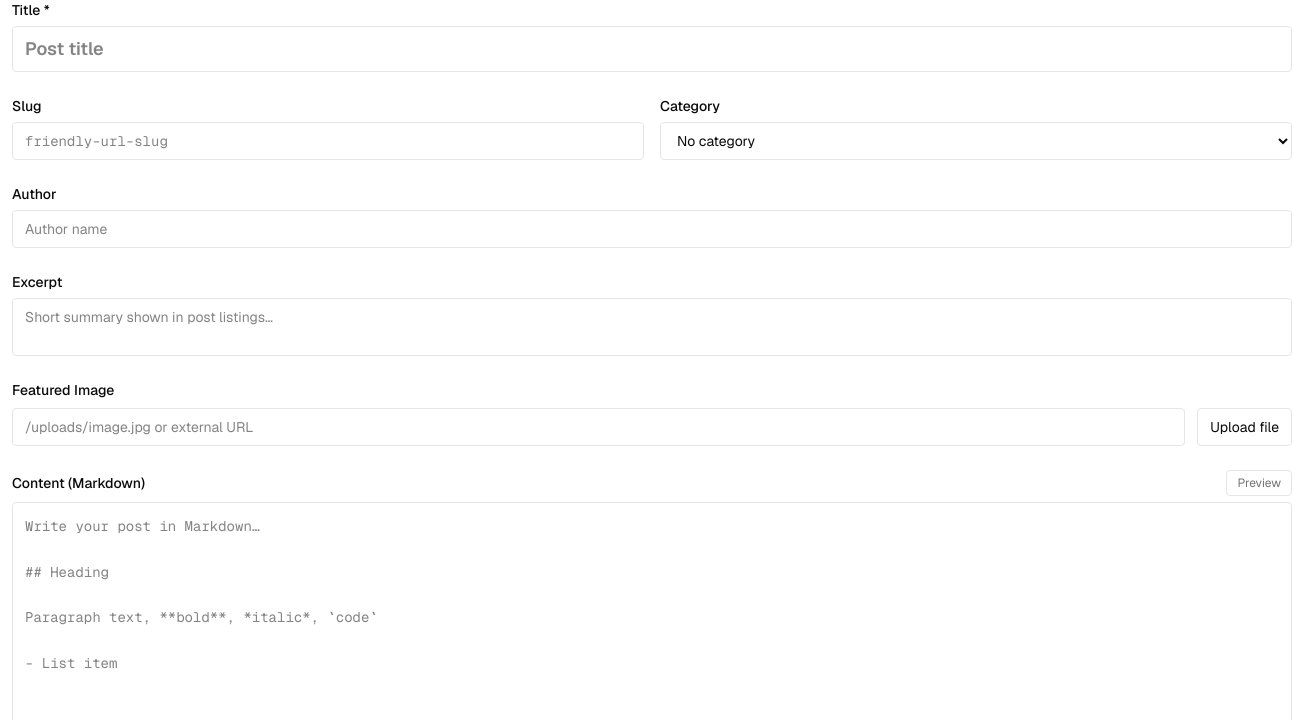
Test: PostForm › saving › shows error on API failure
Type "My Post" into the field with placeholder "Post title" at (652, 49), box x1=12 y1=26 x2=1292 y2=72
(page scrolled)
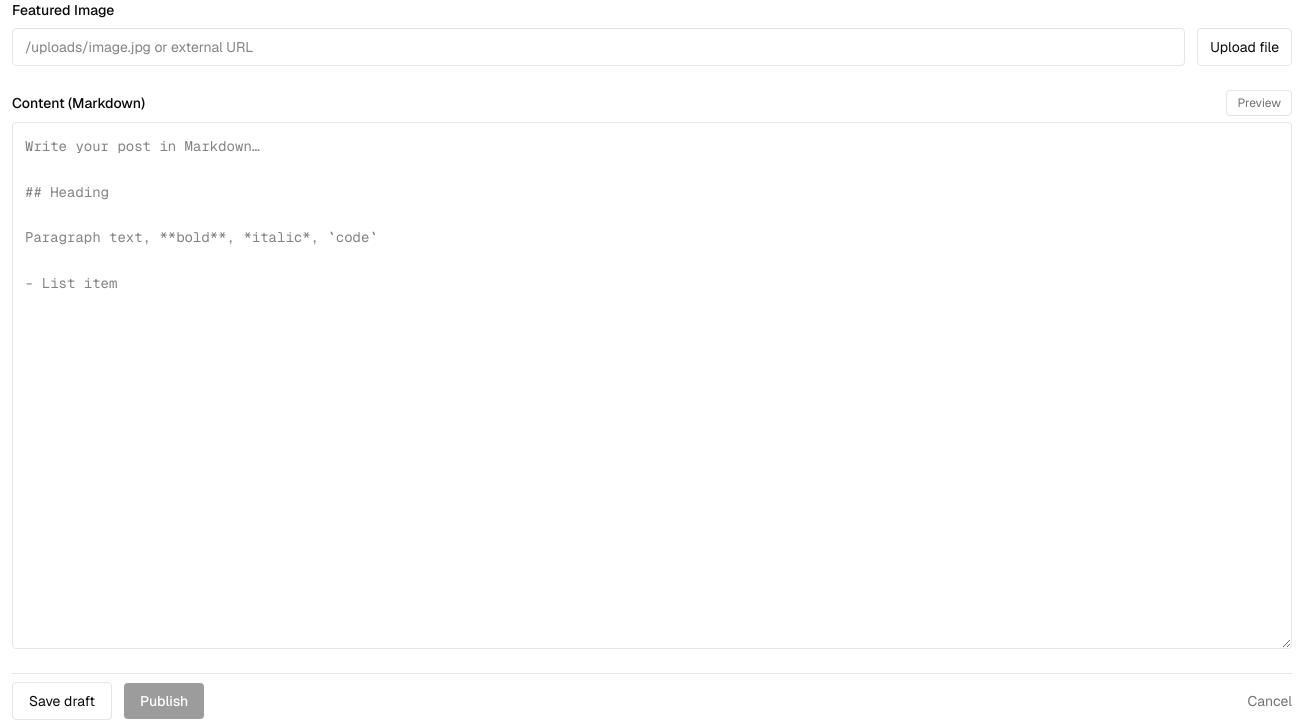
Click the button "Save draft" at (62, 700), box x1=12 y1=682 x2=112 y2=719
(page scrolled)
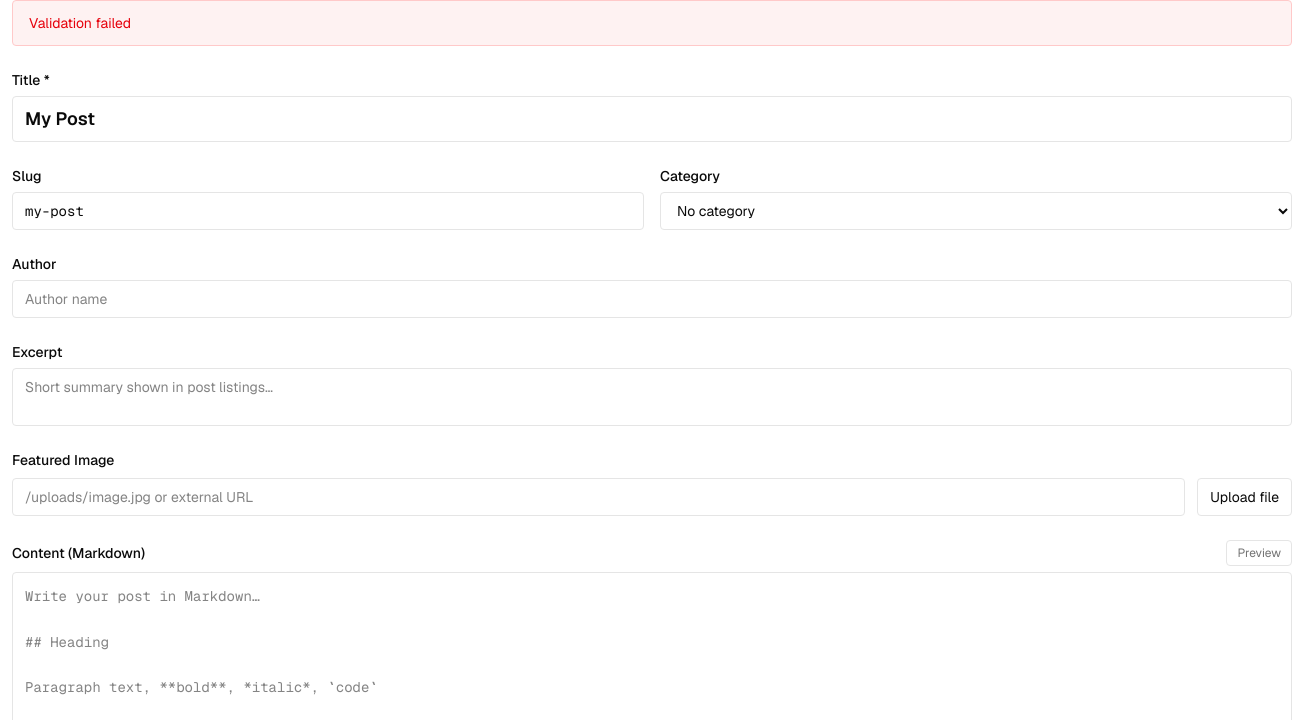
Now the text "Validation failed" is shown, box x1=12 y1=0 x2=1292 y2=46
